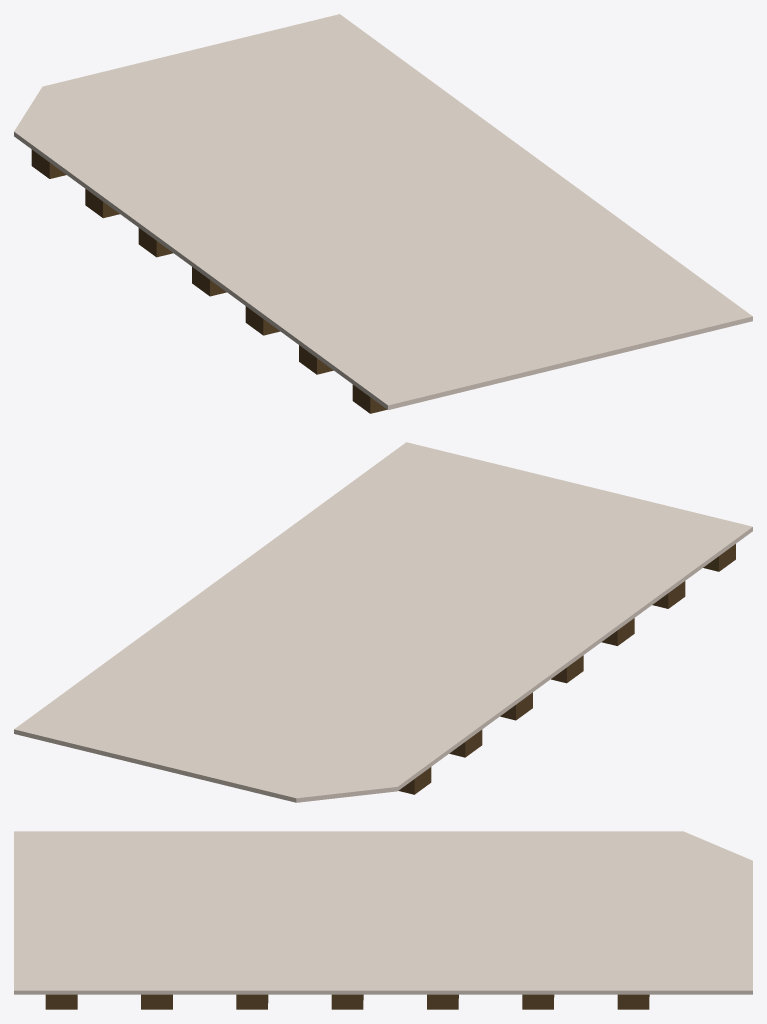
File: SM_Pub_Ceiling.fbx
3 views of the same model, one above another, from view 1: azimuth 30°, elevation 25°; view 2: azimuth 150°, elevation 25°; view 3: azimuth 270°, elevation 25° (orthographic). The views are drawn at different scales.
Visible parts, largest first — view 1: SM_Pub_Ceiling; view 2: SM_Pub_Ceiling; view 3: SM_Pub_Ceiling.
Boxes of the visible parts, bbox=[...] form: SM_Pub_Ceiling: bbox=[14, 14, 752, 413]; SM_Pub_Ceiling: bbox=[14, 442, 752, 802]; SM_Pub_Ceiling: bbox=[14, 831, 752, 1009].
Size of the model in its own units: 802 by 45.13 by 1573.
